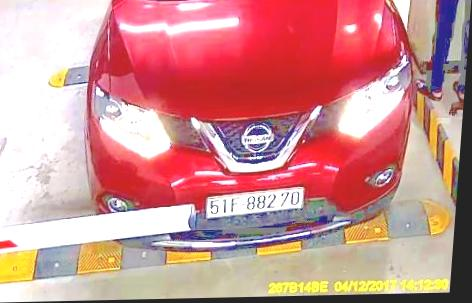License_Plate: (202, 187, 310, 218)
